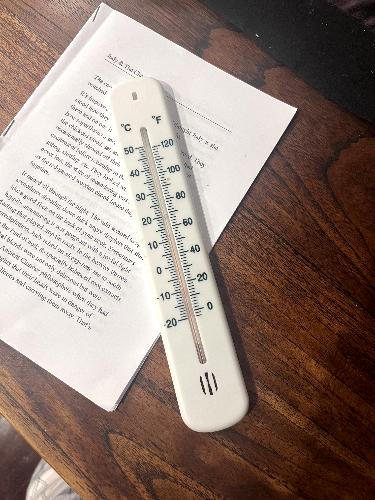thermo: (105, 73, 254, 434)
